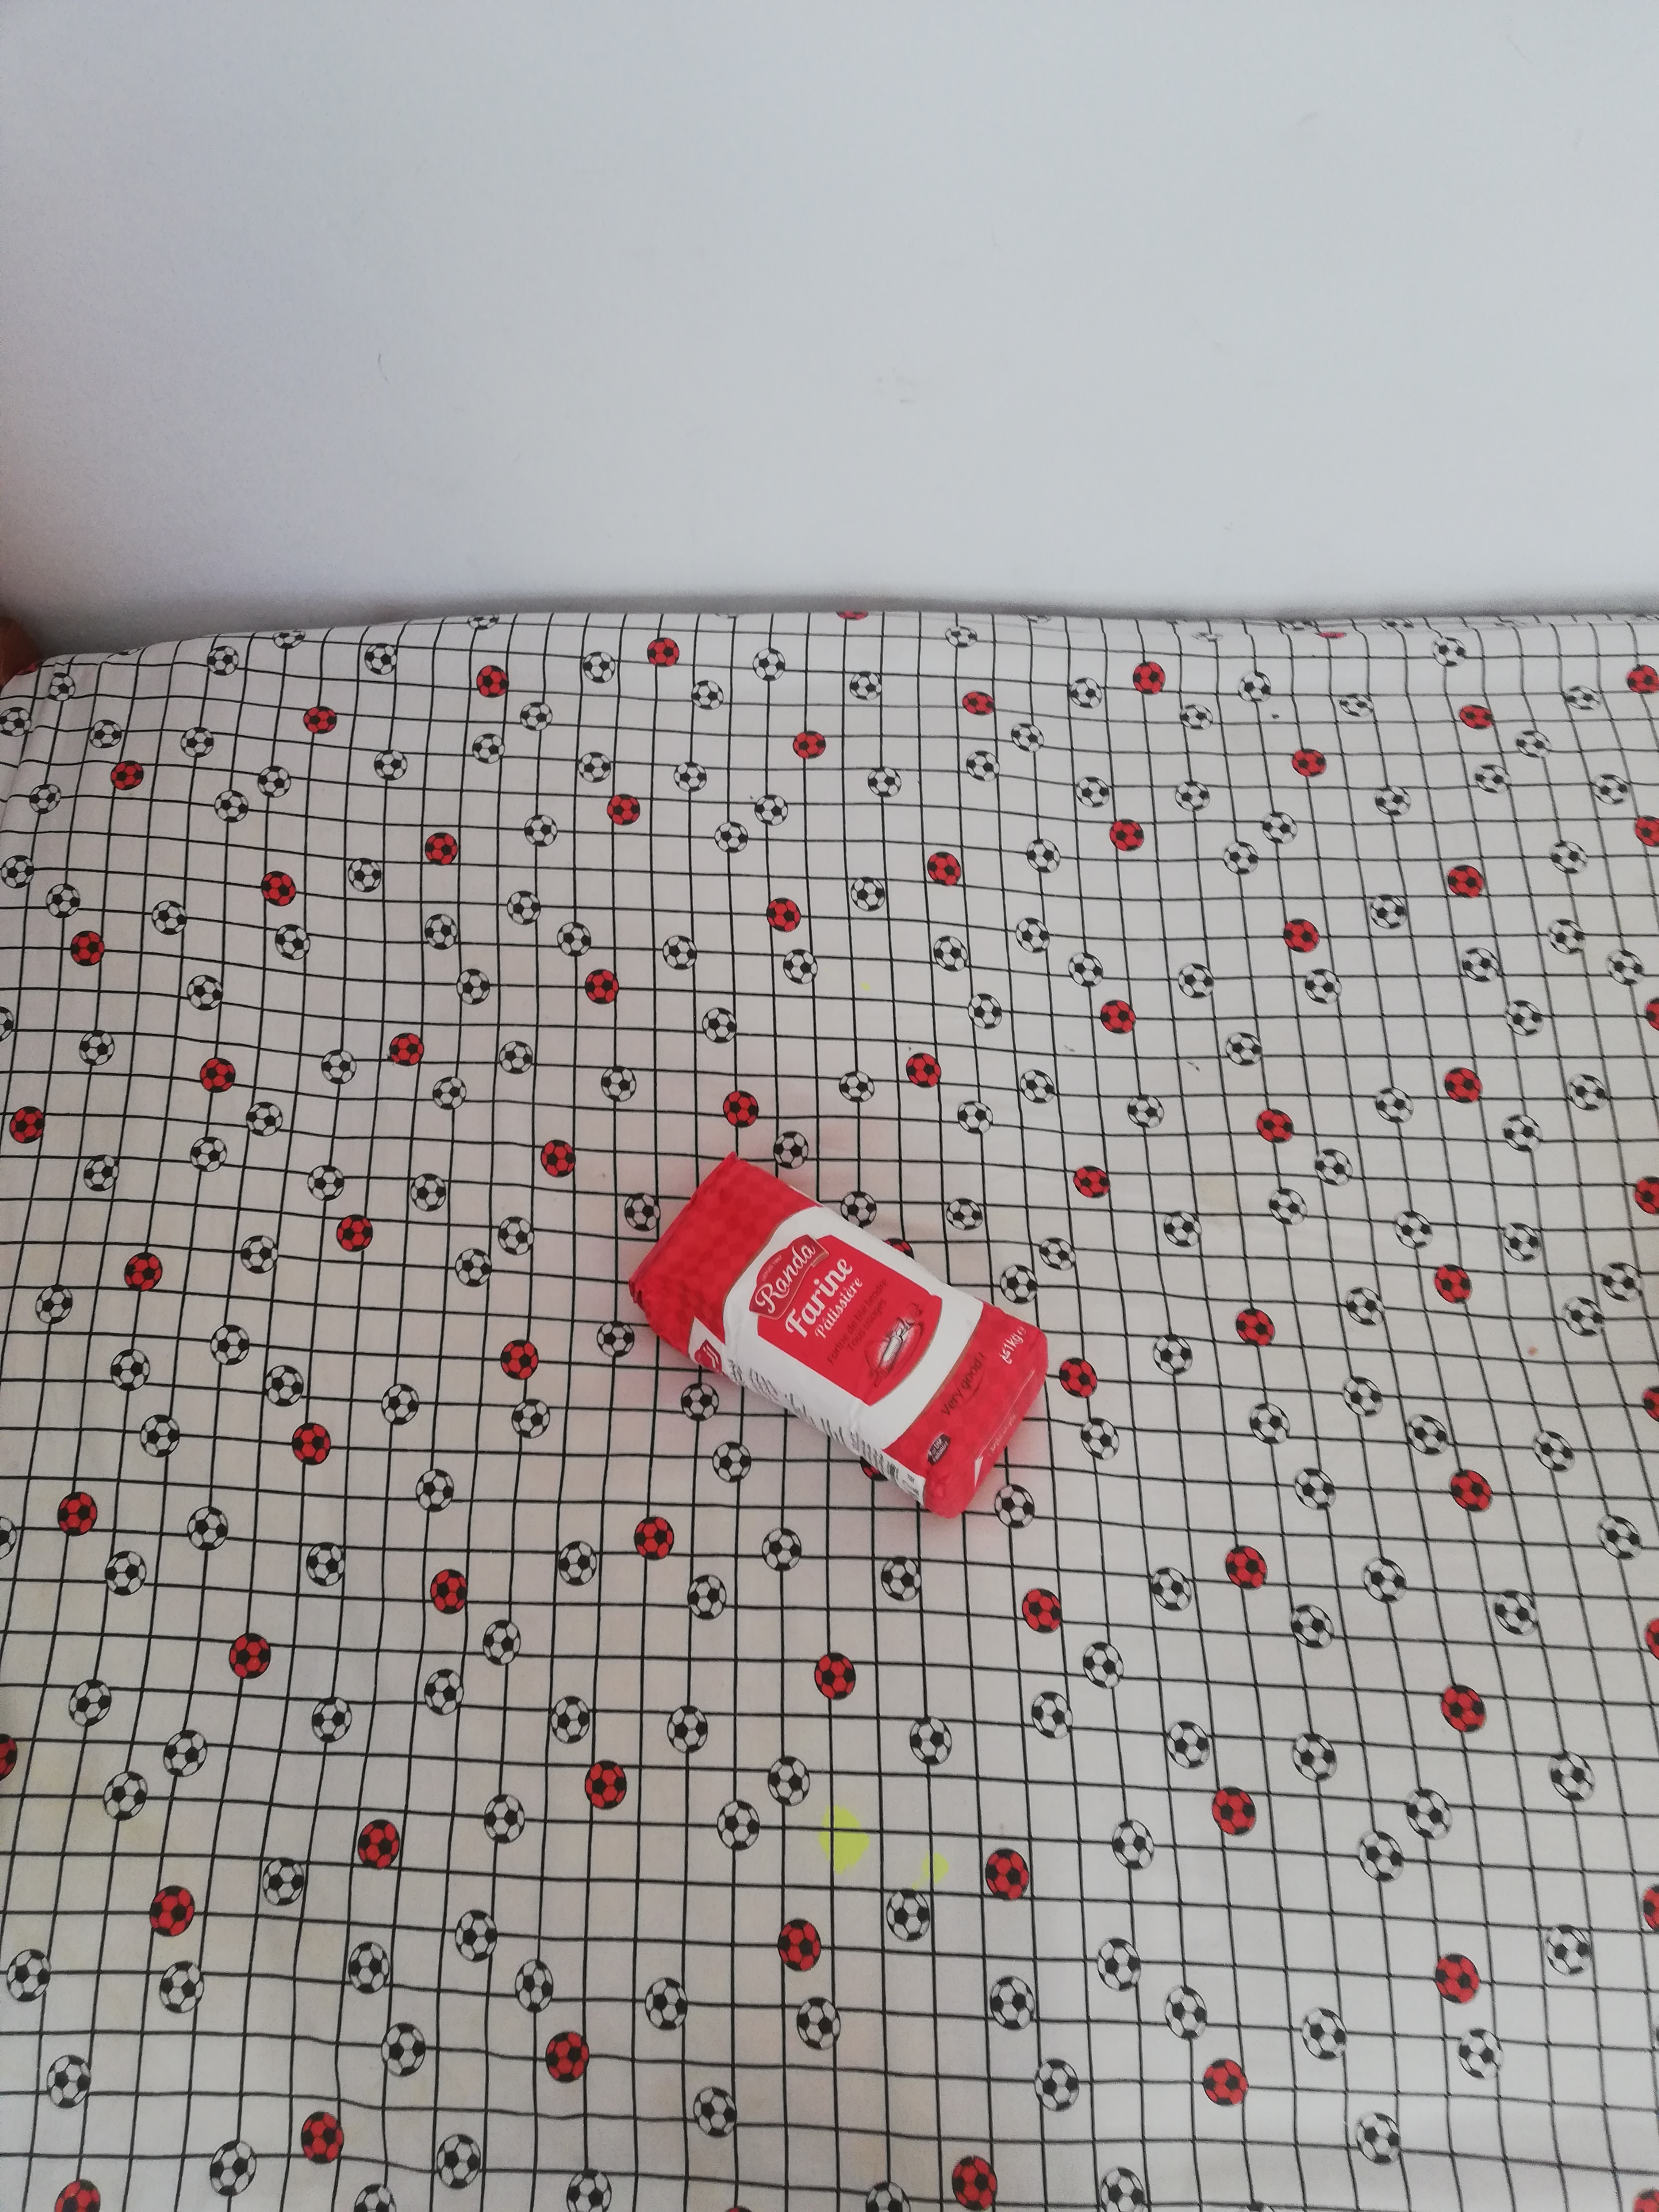Farine Randa: (627, 1153, 1049, 1496)
